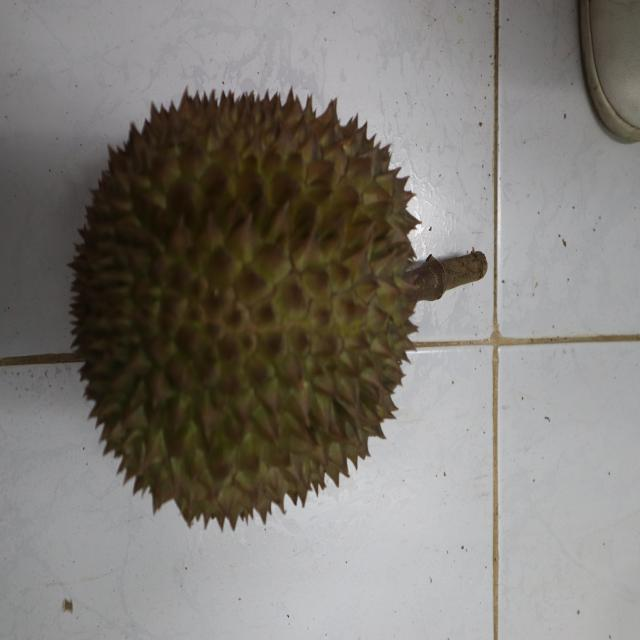mature: (65, 85, 422, 527)
